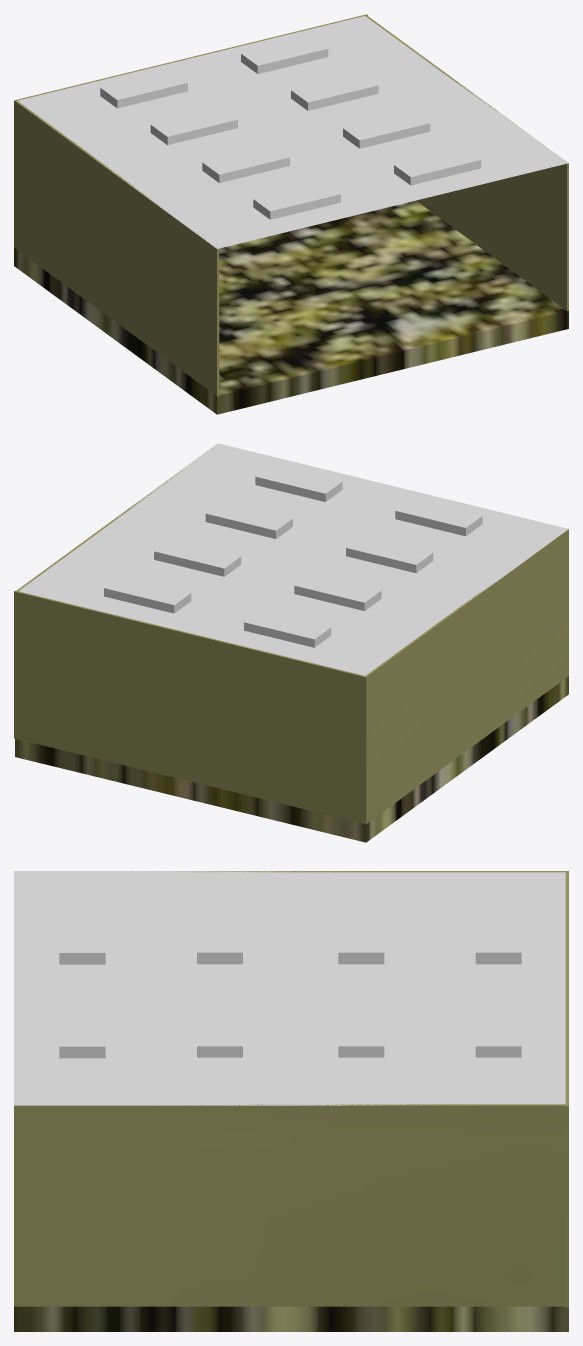
The model's file is BackroomsLevelZero - 2.fbx.
The picture shows the model from 3 angles, top to bottom: view 1: azimuth 30°, elevation 25°; view 2: azimuth 150°, elevation 25°; view 3: azimuth 270°, elevation 25°; orthographic projection. The views are drawn at different scales.
Visible parts, largest first — view 1: Floor.022, Floor.011, Wall.029, Wall.028, Cube.154, Cube.148, Cube.149, Cube.151, Cube.152, Cube.147, Cube.150, Cube.153 (+1 smaller); view 2: Floor.022, Wall.030, Wall.029, Floor.011, Cube.153, Cube.148, Cube.147, Cube.149, Cube.150, Cube.151, Cube.154, Cube.152; view 3: Wall.028, Floor.022, Floor.011, Cube.154, Cube.147, Cube.148, Cube.150, Cube.151, Cube.153, Cube.149, Cube.152, Wall.030 (+1 smaller).
Part boxes in pixels (x1,y1,x2,y2): Floor.022: (17, 16, 568, 248); Floor.011: (14, 200, 568, 414); Wall.029: (14, 100, 219, 396); Wall.028: (365, 15, 568, 310); Cube.154: (394, 147, 481, 185); Cube.148: (150, 107, 237, 145); Cube.149: (202, 145, 289, 182); Cube.151: (291, 73, 378, 110); Cube.152: (343, 111, 430, 148); Cube.147: (100, 70, 187, 108); Cube.150: (241, 36, 328, 73); Cube.153: (253, 182, 340, 219); Floor.022: (19, 443, 568, 675); Wall.030: (14, 590, 365, 823); Wall.029: (364, 529, 568, 824); Floor.011: (15, 676, 568, 842); Cube.153: (395, 498, 482, 536); Cube.148: (294, 573, 381, 610); Cube.147: (244, 610, 331, 647); Cube.149: (346, 535, 433, 573); Cube.150: (104, 576, 191, 613); Cube.151: (154, 539, 241, 576); Cube.154: (255, 464, 342, 501); Cube.152: (205, 501, 292, 538); Wall.028: (14, 1104, 565, 1306); Floor.022: (14, 871, 565, 1105); Floor.011: (14, 1306, 568, 1331); Cube.154: (59, 999, 105, 1058); Cube.147: (475, 905, 521, 964); Cube.148: (338, 905, 384, 964); Cube.150: (475, 999, 521, 1057); Cube.151: (338, 999, 384, 1057); Cube.153: (59, 906, 105, 964); Cube.149: (197, 905, 242, 964); Cube.152: (197, 999, 242, 1057); Wall.030: (565, 871, 568, 1307).
Bounding box in the file's own units: 2006 × 946 × 2000.
